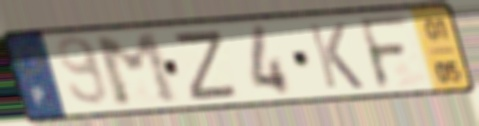4: (246, 20, 293, 100)
9: (58, 33, 114, 114)
F: (355, 12, 414, 92)
K: (304, 21, 367, 91)
M: (90, 30, 184, 110)
Z: (172, 27, 242, 103)
